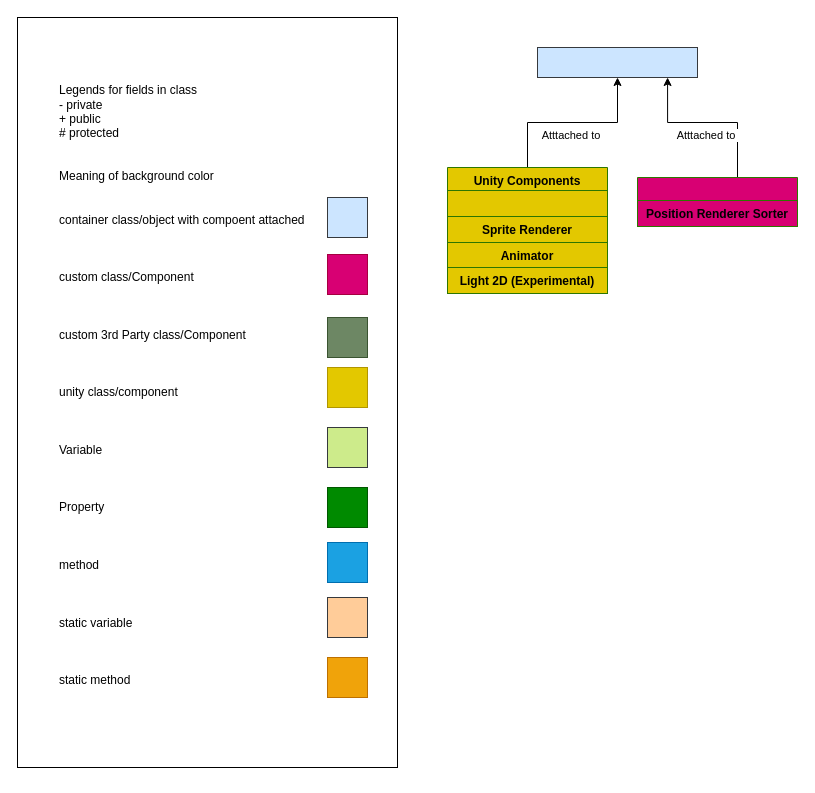
The diagram is 815 pixels wide and 793 high, and some of its shapes have lost their labels. Here are the shapes that lost their labels. From the top down, the box of each, then its label:
(536, 46, 698, 78): Torch
(446, 190, 608, 216): Transfrom
(636, 176, 798, 226): Custom Components
